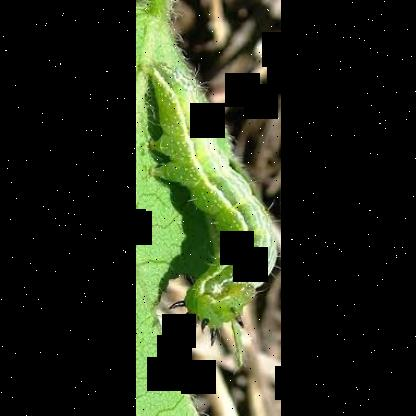oruga: (151, 61, 280, 328)
